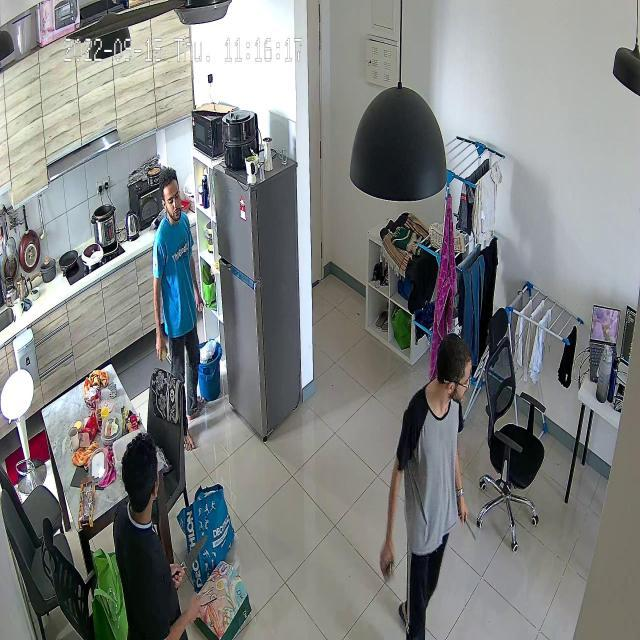Knife: (177, 529, 213, 584), (455, 505, 485, 547)
